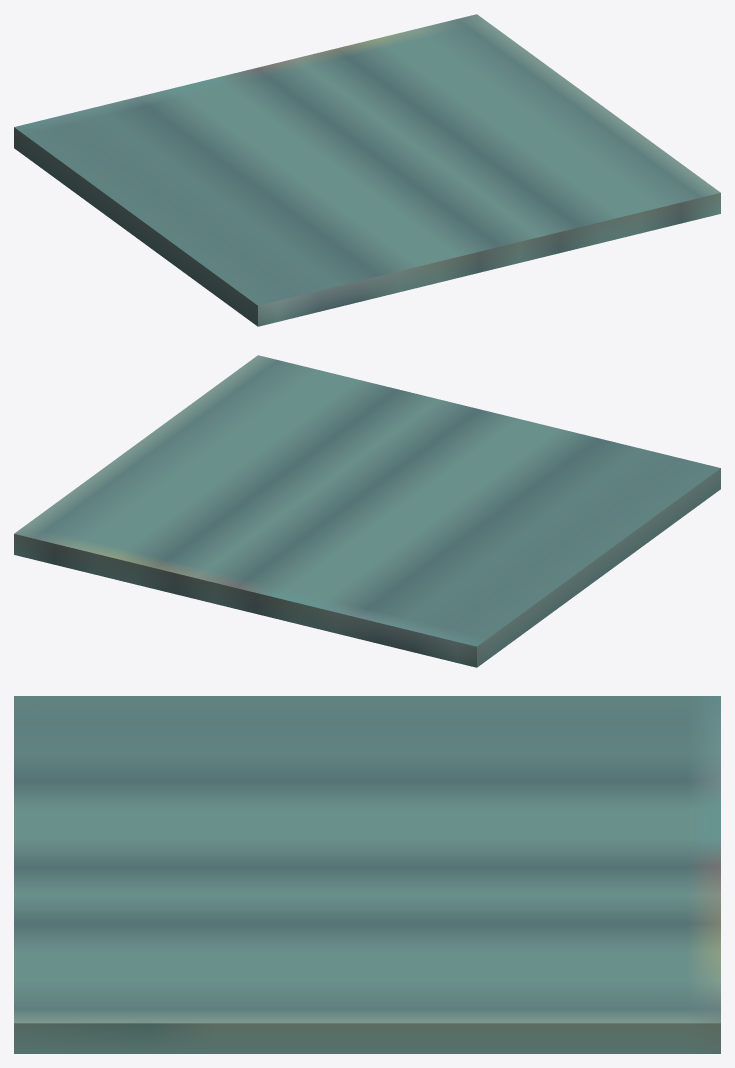
File: RugBlue_00.fbx
3 views of the same model, one above another, from view 1: azimuth 30°, elevation 25°; view 2: azimuth 150°, elevation 25°; view 3: azimuth 270°, elevation 25° (orthographic). The views are drawn at different scales.
Visible parts, largest first — view 1: RugBlue_00; view 2: RugBlue_00; view 3: RugBlue_00.
Boxes of the visible parts, x1=… form: RugBlue_00: x1=14, y1=14, x2=720, y2=326; RugBlue_00: x1=14, y1=355, x2=720, y2=667; RugBlue_00: x1=14, y1=696, x2=720, y2=1053.
Bounding box in the file's own units: 115 × 105 × 5.
Materials: 1 (1 with a texture image).
